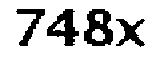4: (46, 8, 81, 49)
7: (12, 5, 45, 51)
8: (82, 6, 114, 51)
x: (115, 15, 146, 50)
